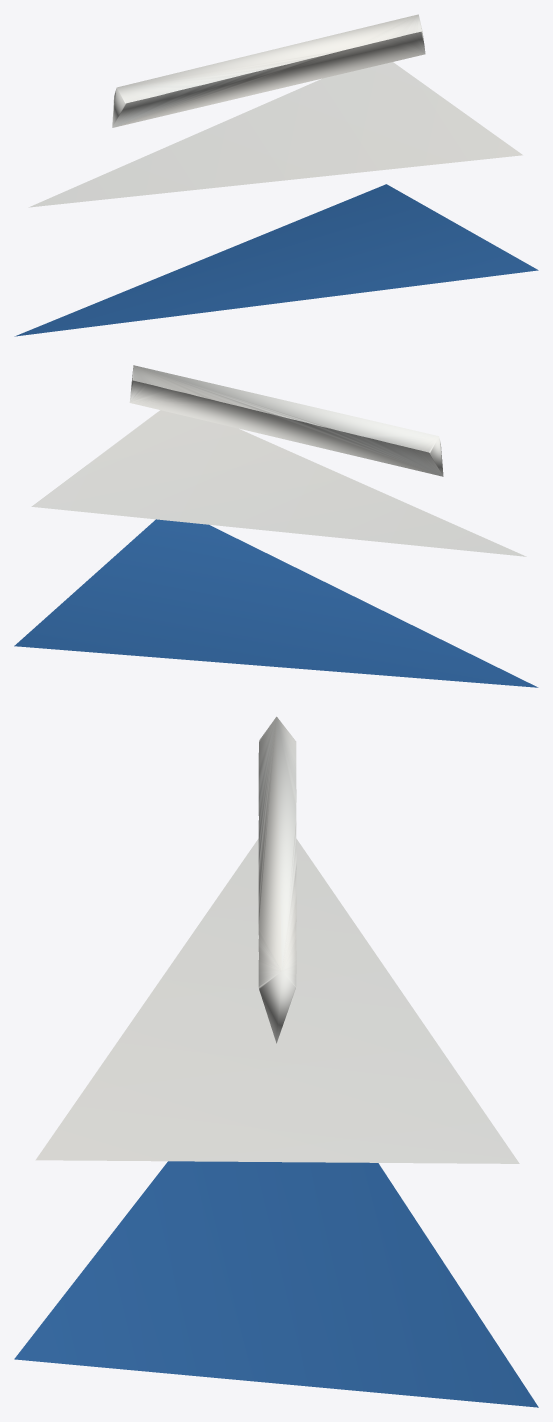
The model's file is shore_cooler_lod2.glb.
3 renders of one model, top to bottom at view 1: azimuth 30°, elevation 25°; view 2: azimuth 150°, elevation 25°; view 3: azimuth 270°, elevation 25°, orthographic. The views are drawn at different scales.
Parts seen in each view (by area): view 1: shore_cooler.001; view 2: shore_cooler.001; view 3: shore_cooler.001.
Boxes of the visible parts, bbox=[...] form: shore_cooler.001: bbox=[14, 14, 538, 336]; shore_cooler.001: bbox=[14, 365, 538, 687]; shore_cooler.001: bbox=[14, 716, 538, 1407].
Bounding box in the file's own units: 18.65 × 9.45 × 11.14.
